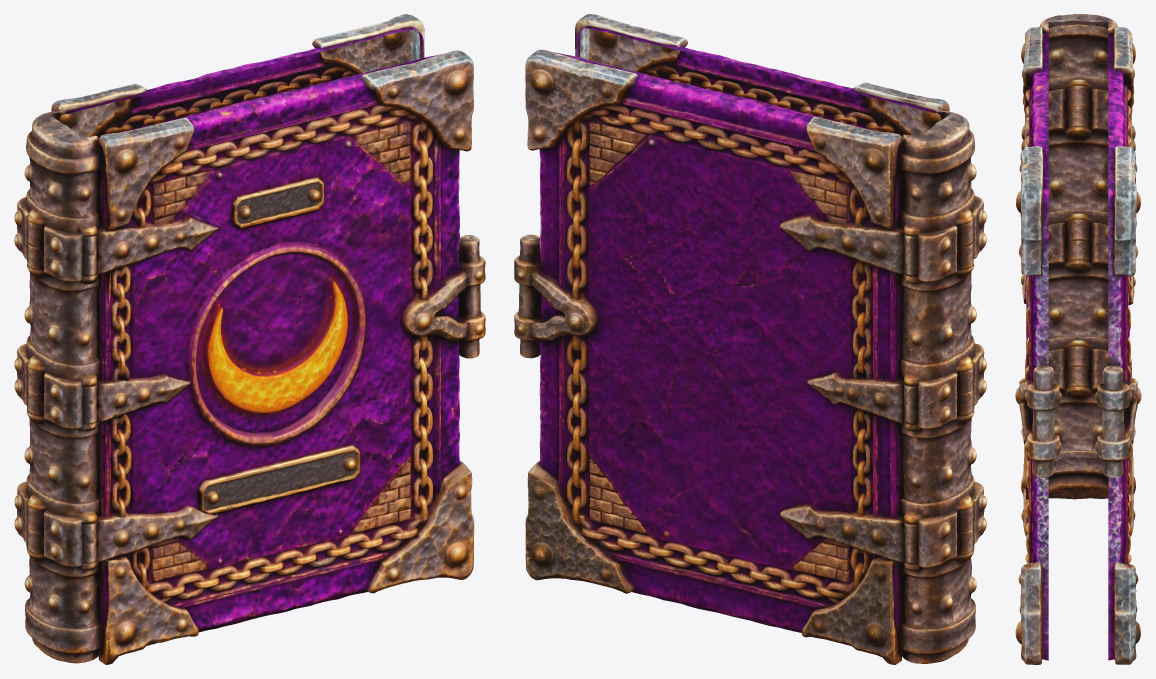
The model's file is builders.glb.
3 views of the same model, side by side, from view 1: azimuth 30°, elevation 25°; view 2: azimuth 150°, elevation 25°; view 3: azimuth 270°, elevation 25° (orthographic). The views are drawn at different scales.
Visible parts, largest first — view 1: cover_front, spine, cover_back; view 2: cover_back, spine, cover_front; view 3: spine, cover_front, cover_back.
Part boxes in pixels (box(x1,y1,x2,y2)): cover_front: box(82, 50, 485, 664); spine: box(14, 113, 94, 663); cover_back: box(47, 14, 424, 549); cover_back: box(514, 49, 918, 664); spine: box(906, 112, 986, 663); cover_front: box(575, 14, 953, 136); spine: box(1025, 14, 1131, 499); cover_front: box(1015, 22, 1061, 664); cover_back: box(1095, 21, 1141, 664).
Size of the model in its own units: 0.8476 by 0.9811 by 0.2341.
Materials: 1 (1 with a texture image).
